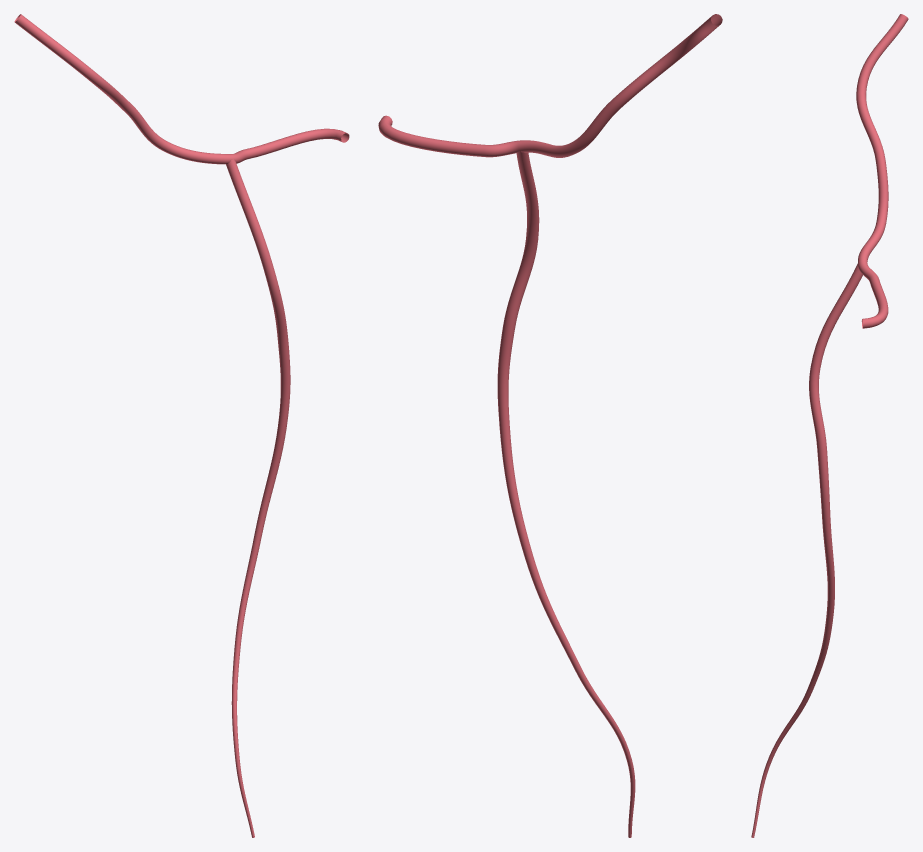
3 renders of one model, left to right at view 1: azimuth 30°, elevation 25°; view 2: azimuth 150°, elevation 25°; view 3: azimuth 270°, elevation 25°, orthographic. The views are drawn at different scales.
Visible parts, largest first — view 1: ZA_c891a3ded5125b81; view 2: ZA_c891a3ded5125b81; view 3: ZA_c891a3ded5125b81.
Part boxes in pixels (bbox=[...]): ZA_c891a3ded5125b81: bbox=[14, 14, 349, 837]; ZA_c891a3ded5125b81: bbox=[378, 14, 722, 837]; ZA_c891a3ded5125b81: bbox=[751, 14, 908, 837].
Bounding box in the file's own units: 0.0479 × 0.1173 × 0.0222.
